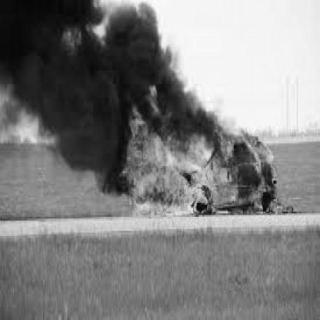Smoke: (120, 3, 182, 71)
